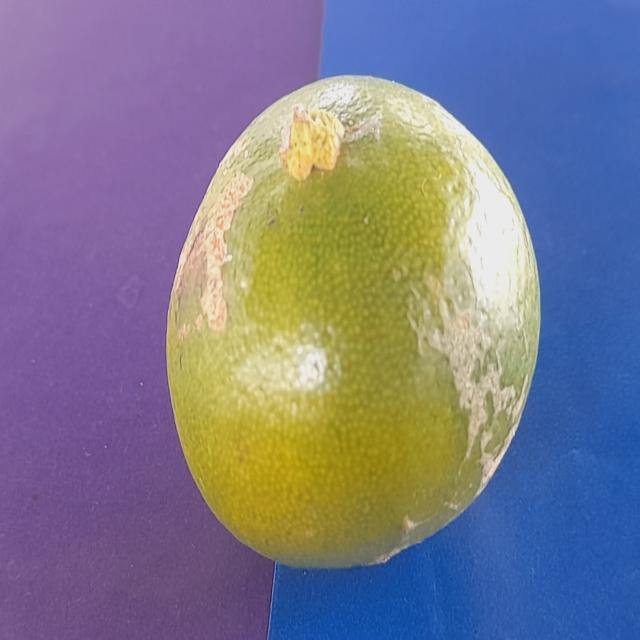thrips: (153, 32, 572, 587)
